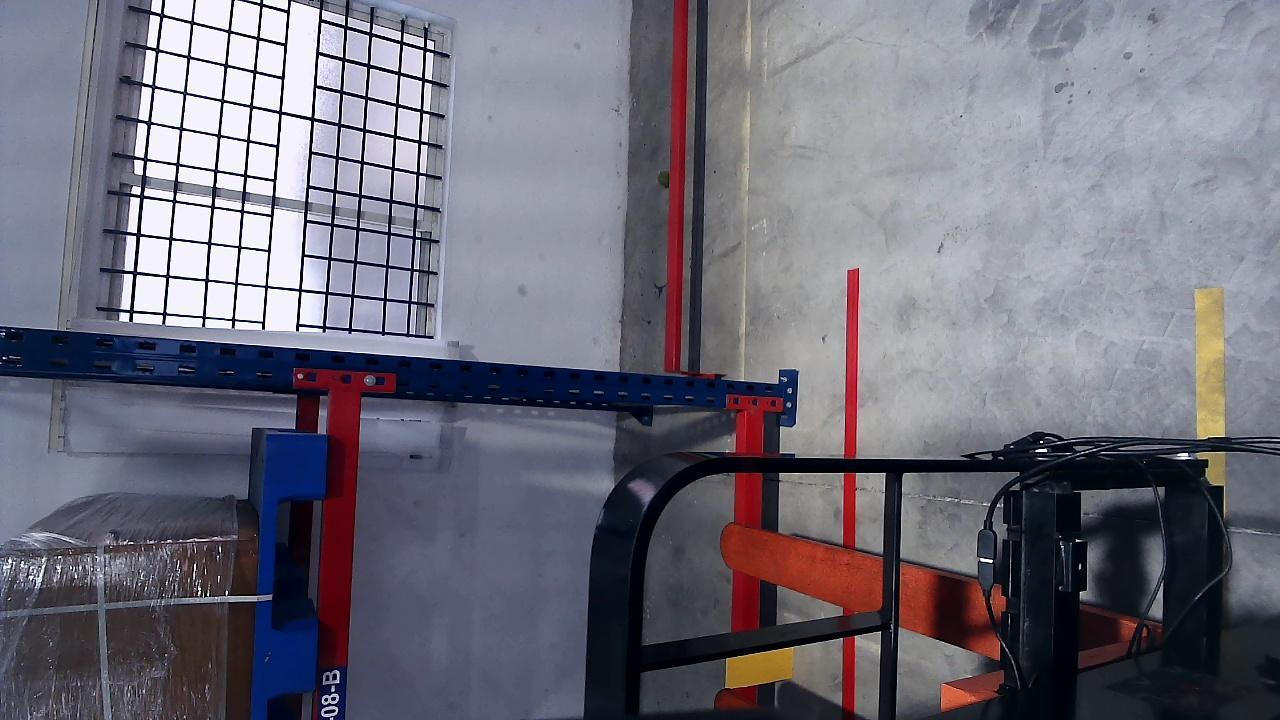red_line: (844, 269, 861, 455)
yellow_line: (1195, 286, 1226, 437)
